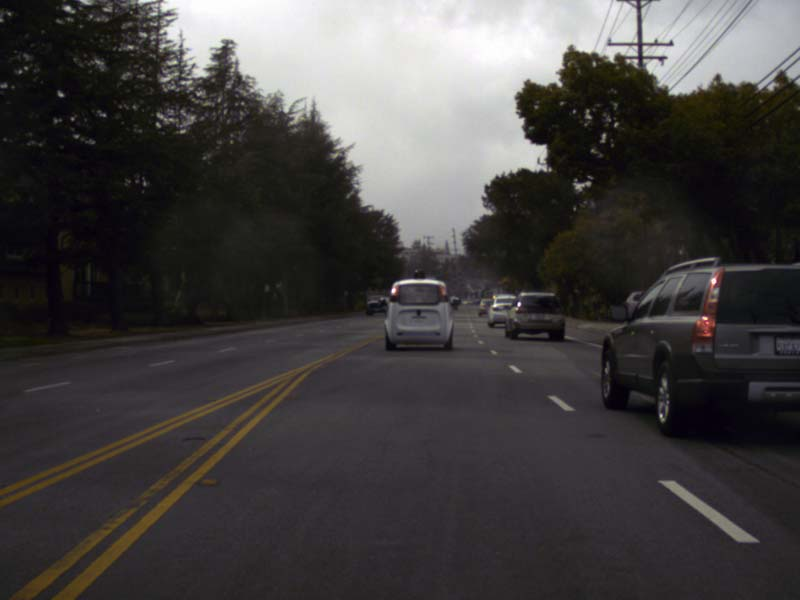Green: (459, 278, 461, 282), (483, 289, 485, 293), (449, 277, 450, 282)
